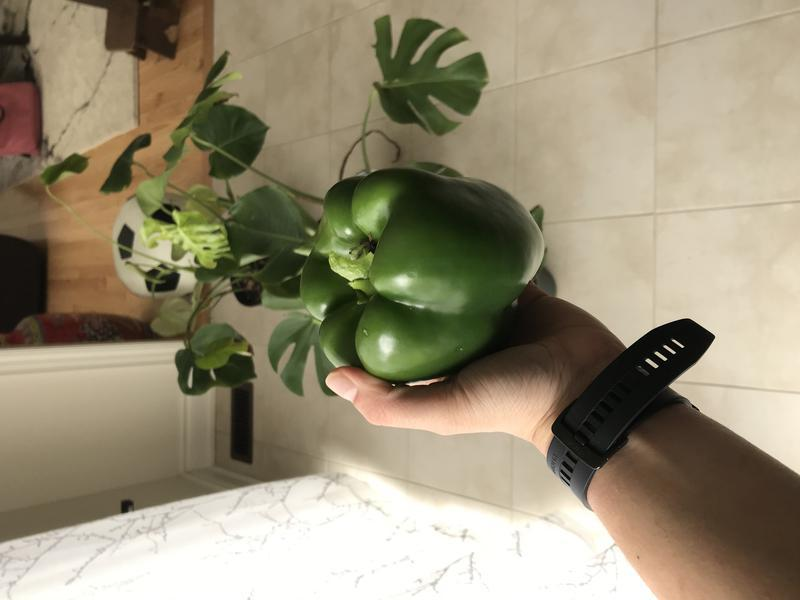green_pepper: (295, 159, 562, 394)
